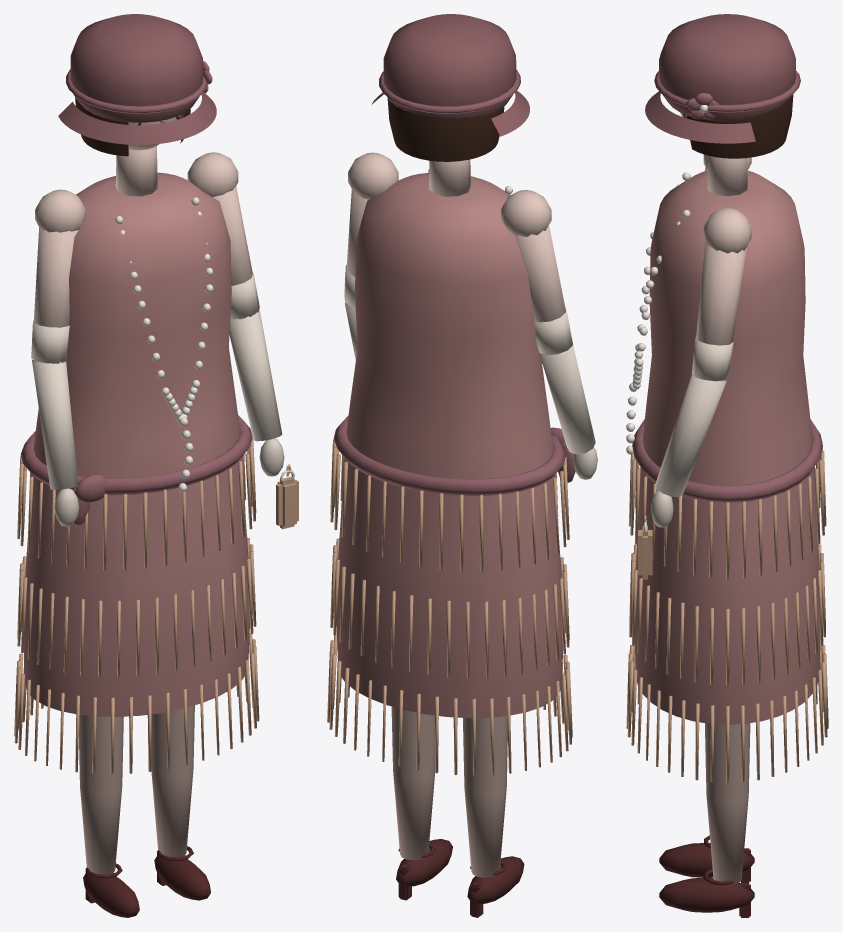
The model's file is last_passenger.glb.
3 renders of one model, left to right at view 1: azimuth 30°, elevation 25°; view 2: azimuth 150°, elevation 25°; view 3: azimuth 270°, elevation 25°, orthographic.
Parts seen in each view (by area): view 1: Dress, Passenger_Root_RoseGoldFringe, Head_ClocheFelt, ArmA_OperaGlove, LegLegA, ArmB_OperaGlove, LegLegB, ArmA_PaleSkin, Passenger_Root_DustyMauve, ArmB_PaleSkin, Head_PaleSkin, Passenger_Root_Pearl (+5 smaller); view 2: Dress, Head_ClocheFelt, Tail_RoseGoldFringe, Passenger_Root_RoseGoldFringe, LegLegA, LegLegB, ArmA_OperaGlove, Passenger_Root_DustyMauve, ArmA_PaleSkin, Head_BobHair, ArmB_PaleSkin, LegA_TStrapShoe (+4 smaller); view 3: Dress, Head_ClocheFelt, Passenger_Root_RoseGoldFringe, ArmB_OperaGlove, LegLegB, ArmB_PaleSkin, Tail_RoseGoldFringe, Passenger_Root_DustyMauve, LegB_TStrapShoe, Head_BobHair, LegA_TStrapShoe, Head_DustyMauve (+3 smaller).
Boxes of the visible parts, x1,y1,x2,y2 form: Dress: (23,172,249,716); Passenger_Root_RoseGoldFringe: (14,439,259,774); Head_ClocheFelt: (58,14,216,144); ArmA_OperaGlove: (31,320,79,526); LegLegA: (79,715,123,874); ArmB_OperaGlove: (229,273,284,476); LegLegB: (151,705,194,857); ArmA_PaleSkin: (33,189,85,327); Passenger_Root_DustyMauve: (20,415,252,525); ArmB_PaleSkin: (187,152,252,285); Head_PaleSkin: (115,115,180,196); Passenger_Root_Pearl: (115,197,213,491); Dress: (336,173,562,718); Head_ClocheFelt: (371,14,529,136); Tail_RoseGoldFringe: (329,454,511,775); Passenger_Root_RoseGoldFringe: (327,439,572,770); LegLegA: (463,716,507,877); LegLegB: (391,706,435,860); ArmA_OperaGlove: (534,307,597,479); Passenger_Root_DustyMauve: (333,415,575,496); ArmA_PaleSkin: (501,190,565,322); Head_BobHair: (387,98,504,161); ArmB_PaleSkin: (346,152,398,276); LegA_TStrapShoe: (467,856,524,917); Dress: (634,170,820,724); Head_ClocheFelt: (645,14,795,143); Passenger_Root_RoseGoldFringe: (626,443,777,782); ArmB_OperaGlove: (651,337,733,527); LegLegB: (705,723,750,884); ArmB_PaleSkin: (696,207,751,345); Tail_RoseGoldFringe: (782,442,828,772); Passenger_Root_DustyMauve: (632,419,822,502); LegB_TStrapShoe: (659,868,754,917); Head_BobHair: (683,94,793,158); LegA_TStrapShoe: (659,835,754,882); Head_DustyMauve: (654,71,800,119).
Bounding box in the file's own units: 0.4597 × 1.64 × 0.3444.
